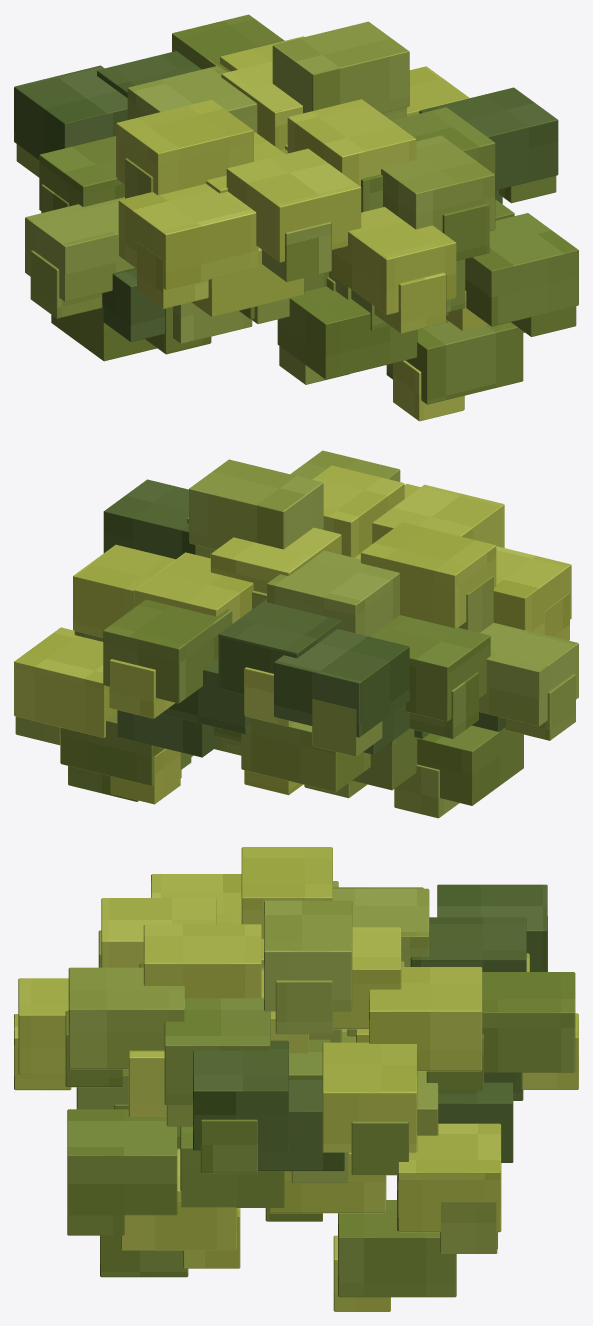
The model's file is Foliage.glb.
3 renders of one model, top to bottom at view 1: azimuth 30°, elevation 25°; view 2: azimuth 150°, elevation 25°; view 3: azimuth 270°, elevation 25°, orthographic. The views are drawn at different scales.
Visible parts, largest first — view 1: Foliage; view 2: Foliage; view 3: Foliage.
Part boxes in pixels (x1=…): Foliage: x1=14, y1=14, x2=578, y2=421; Foliage: x1=14, y1=450, x2=578, y2=818; Foliage: x1=14, y1=847, x2=578, y2=1311.
Bounding box in the file's own units: 0.3683 × 0.228 × 0.3549.
Materials: 4 (4 with a texture image).
